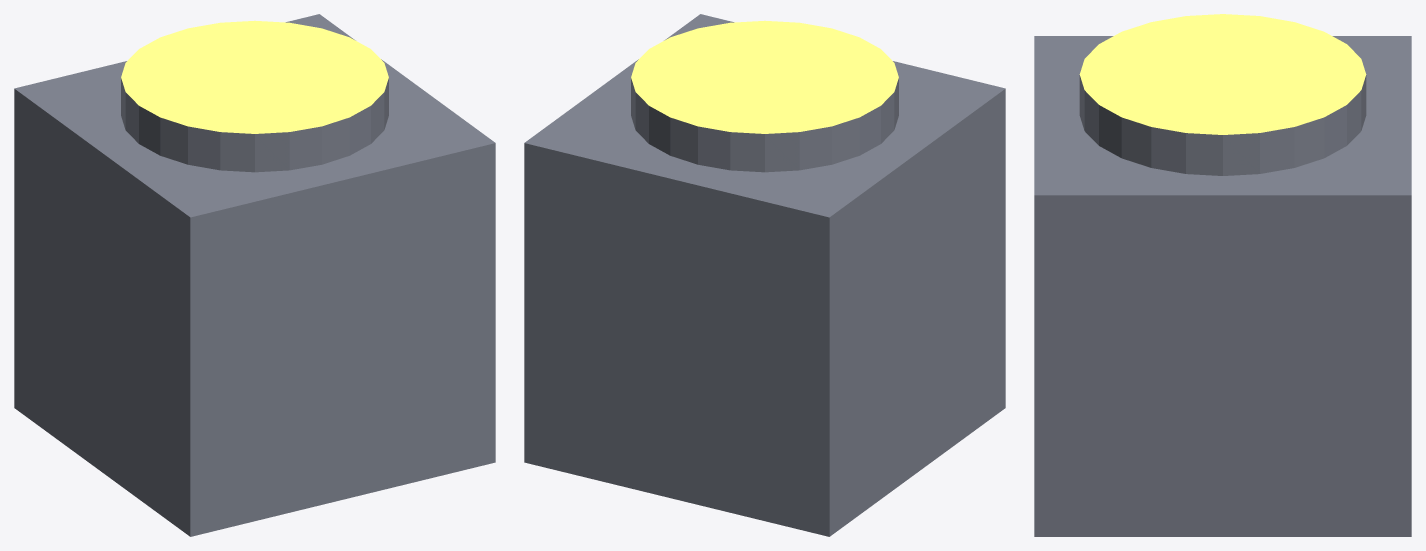
Rendered from jump_pad.glb.
3 renders of one model, left to right at view 1: azimuth 30°, elevation 25°; view 2: azimuth 150°, elevation 25°; view 3: azimuth 270°, elevation 25°, orthographic. The views are drawn at different scales.
Parts seen in each view (by area): view 1: JumpPad; view 2: JumpPad; view 3: JumpPad.
Part boxes in pixels (box(x1,y1,x2,y2)): JumpPad: box(14, 14, 495, 536); JumpPad: box(524, 14, 1005, 536); JumpPad: box(1034, 14, 1411, 536).
Bounding box in the file's own units: 1 × 1.12 × 1.
